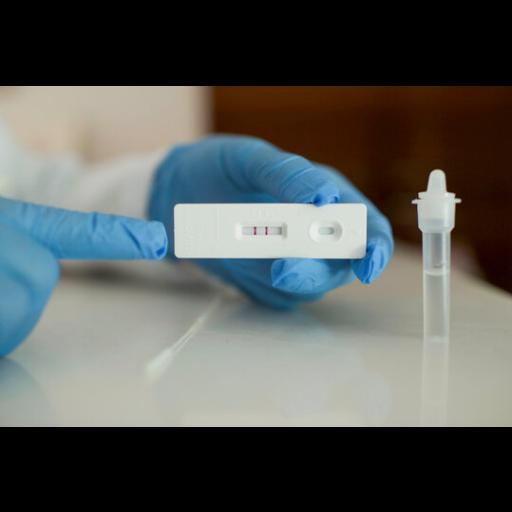Pos: (174, 202, 366, 258)
